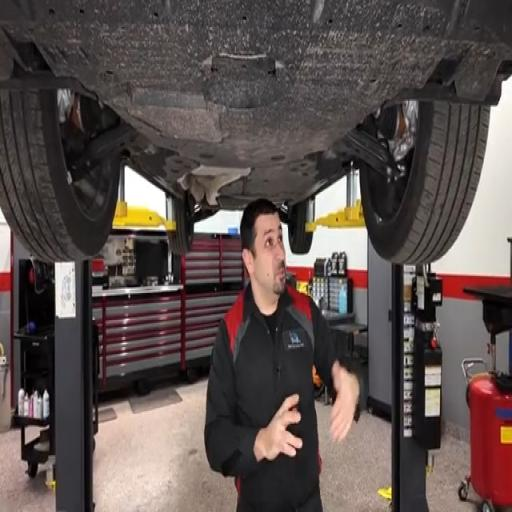tire: (360, 103, 489, 264), (0, 92, 120, 263), (168, 198, 194, 254), (288, 201, 313, 254)
wheel: (360, 101, 489, 264), (0, 90, 120, 261), (168, 195, 194, 254), (288, 201, 313, 254)
